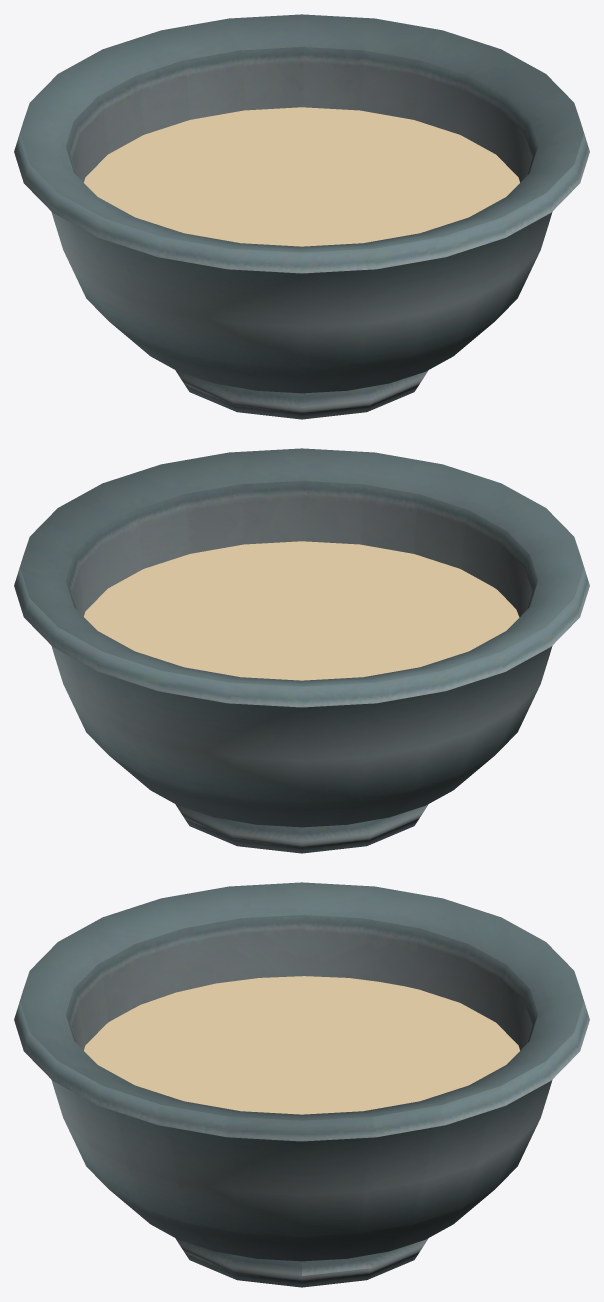
Rendered from Bowl.fbx.
3 renders of one model, top to bottom at view 1: azimuth 30°, elevation 25°; view 2: azimuth 150°, elevation 25°; view 3: azimuth 270°, elevation 25°, orthographic.
Parts seen in each view (by area): view 1: m_cakemixer_01_Bowl, Cylinder; view 2: m_cakemixer_01_Bowl, Cylinder; view 3: m_cakemixer_01_Bowl, Cylinder.
Part boxes in pixels (bbox=[...]): m_cakemixer_01_Bowl: bbox=[14, 14, 589, 419]; Cylinder: bbox=[84, 107, 519, 246]; m_cakemixer_01_Bowl: bbox=[14, 448, 589, 853]; Cylinder: bbox=[84, 541, 519, 680]; m_cakemixer_01_Bowl: bbox=[14, 882, 589, 1287]; Cylinder: bbox=[84, 976, 519, 1114].
Size of the model in its own units: 0.8178 by 0.3621 by 0.8178.
2 materials, 2 textured.
